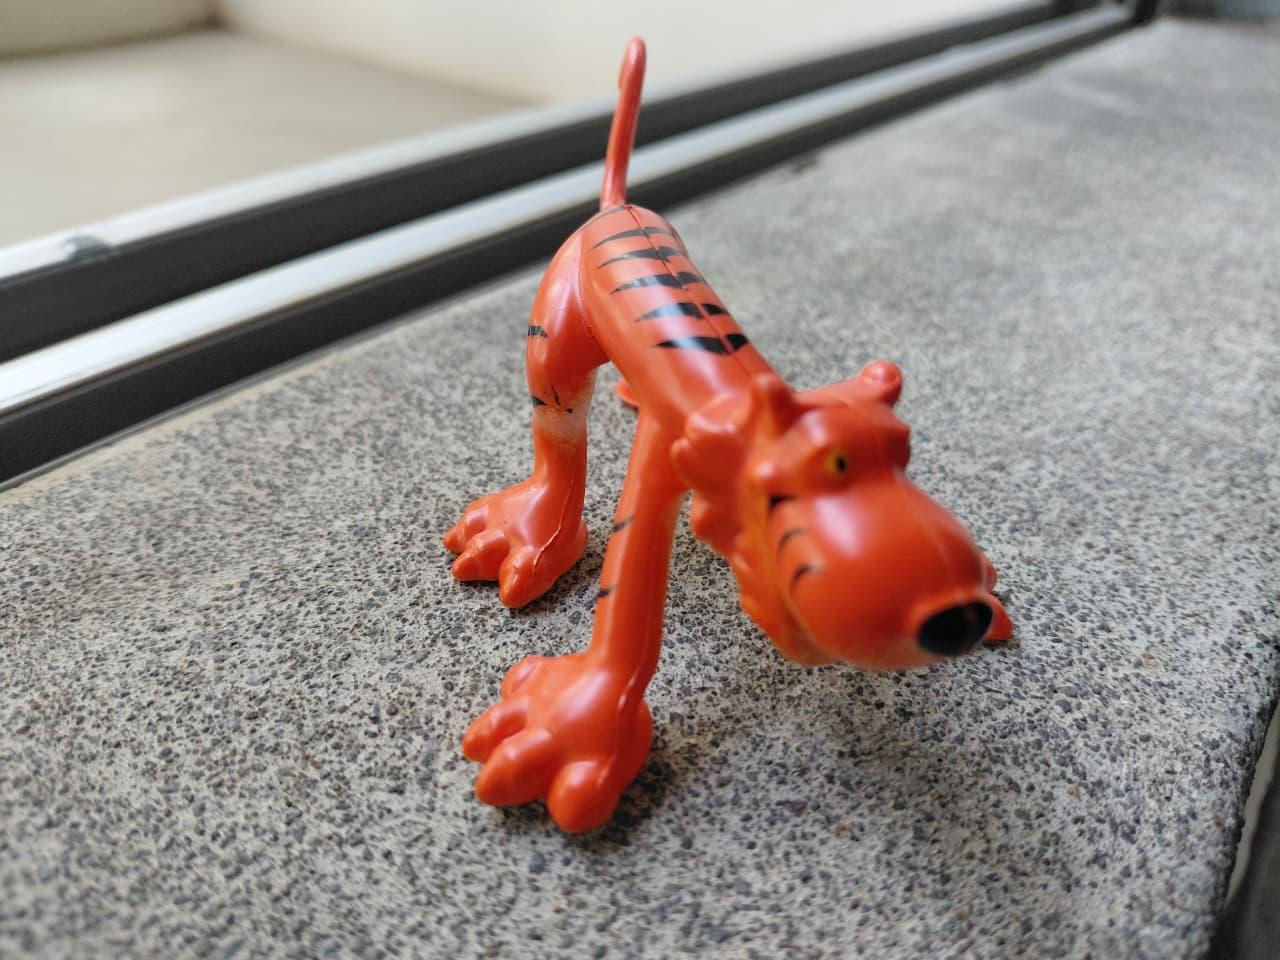tiger: (426, 12, 1041, 855)
